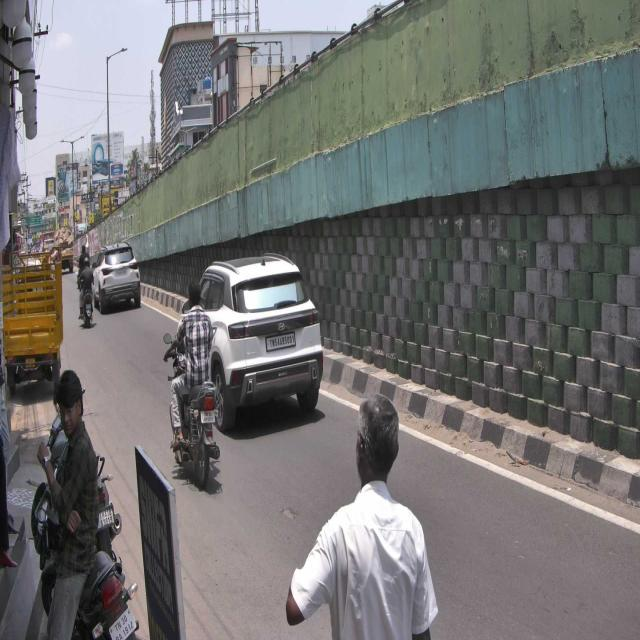single_rider: (163, 278, 223, 492)
